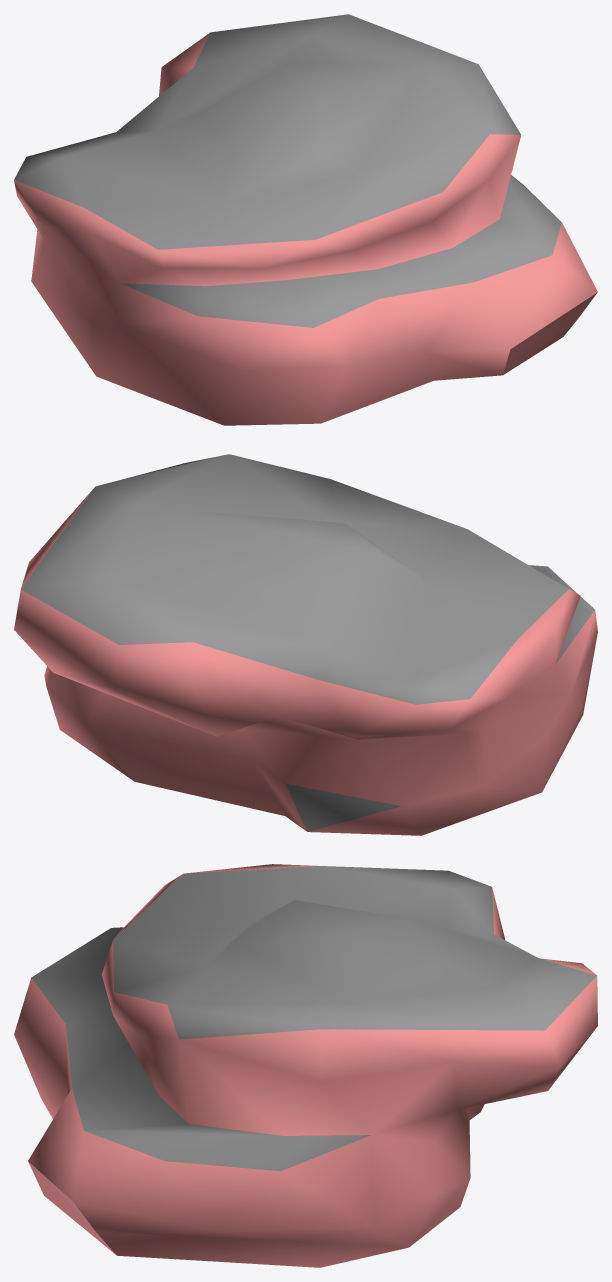
The model's file is field_deco_S__deco_Doren_stone004.gltf.
3 views of the same model, one above another, from view 1: azimuth 30°, elevation 25°; view 2: azimuth 150°, elevation 25°; view 3: azimuth 270°, elevation 25° (orthographic). The views are drawn at different scales.
Parts seen in each view (by area): view 1: deco_Doren_stone004; view 2: deco_Doren_stone004; view 3: deco_Doren_stone004.
Boxes of the visible parts, x1,y1,x2,y2 form: deco_Doren_stone004: (14,14,597,425); deco_Doren_stone004: (14,454,597,835); deco_Doren_stone004: (14,864,597,1267).
Bounding box in the file's own units: 2.42 × 1.13 × 2.48.
